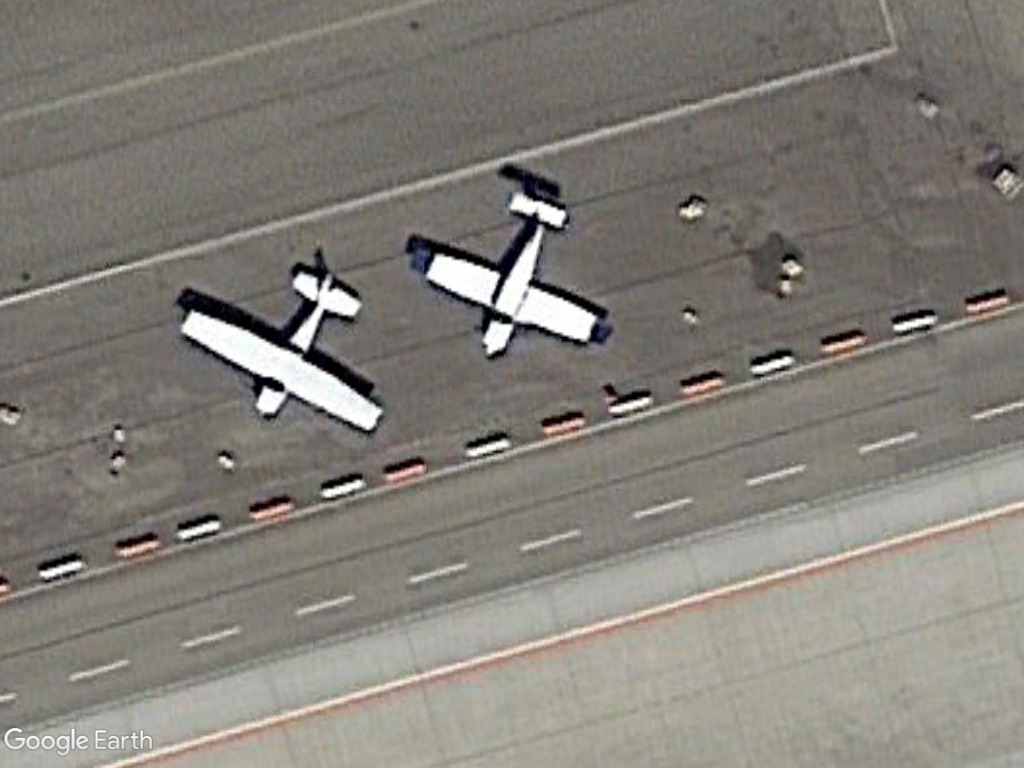trainer: (176, 250, 386, 440), (417, 187, 604, 362)
